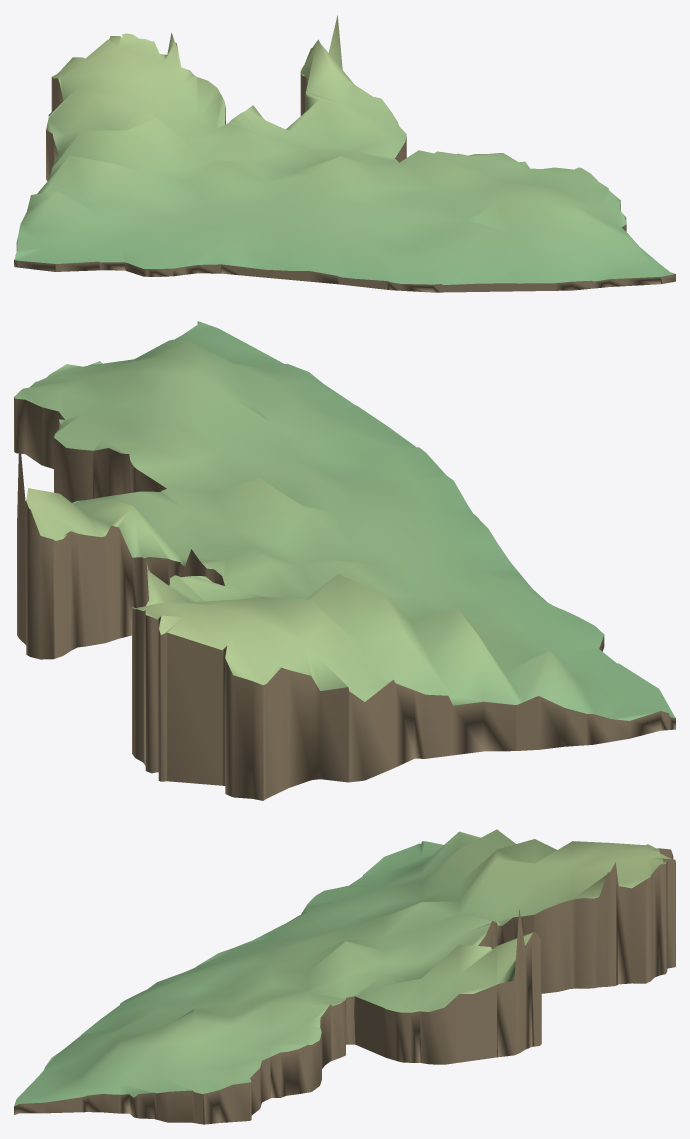
The model's file is LBR.glb.
3 renders of one model, top to bottom at view 1: azimuth 30°, elevation 25°; view 2: azimuth 150°, elevation 25°; view 3: azimuth 270°, elevation 25°, orthographic. The views are drawn at different scales.
Visible parts, largest first — view 1: LBR; view 2: LBR; view 3: LBR.
Boxes of the visible parts, bbox=[...] form: LBR: bbox=[14, 15, 675, 292]; LBR: bbox=[14, 321, 675, 800]; LBR: bbox=[14, 829, 675, 1124].
Size of the model in its own units: 1.36 by 0.338 by 1.39.
